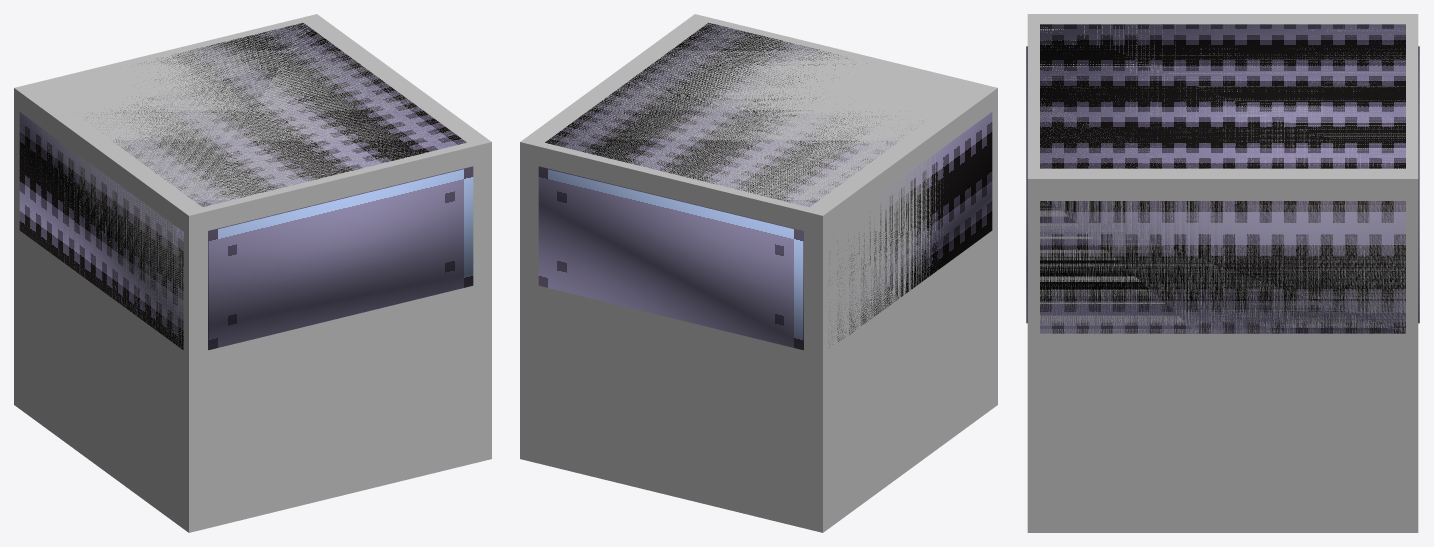
The model's file is ConveyorTile.obj.
3 views of the same model, side by side, from view 1: azimuth 30°, elevation 25°; view 2: azimuth 150°, elevation 25°; view 3: azimuth 270°, elevation 25° (orthographic). The views are drawn at different scales.
Visible parts, largest first — view 1: MetalTile; view 2: MetalTile; view 3: MetalTile.
Part boxes in pixels (box(x1,y1,x2,y2)): MetalTile: box(14, 14, 491, 532); MetalTile: box(520, 14, 997, 532); MetalTile: box(1026, 14, 1419, 532).
Bounding box in the file's own units: 1 × 1 × 1.01.
